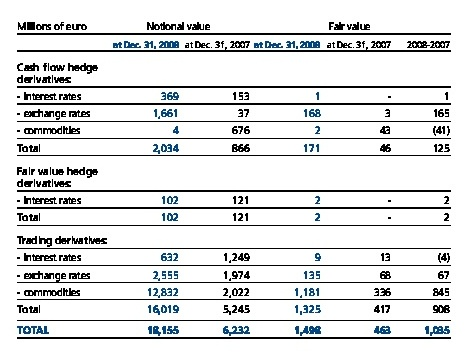table: (0, 0, 470, 354)
